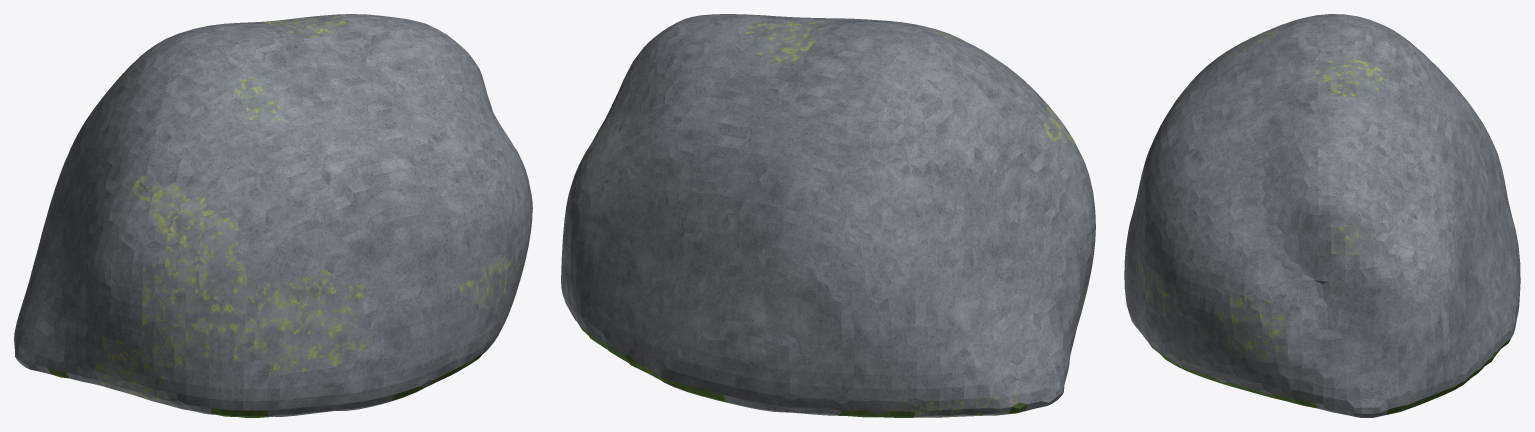
File: rock_large.glb
3 views of the same model, side by side, from view 1: azimuth 30°, elevation 25°; view 2: azimuth 150°, elevation 25°; view 3: azimuth 270°, elevation 25° (orthographic). The views are drawn at different scales.
Parts seen in each view (by area): view 1: wilds_rock_large; view 2: wilds_rock_large; view 3: wilds_rock_large.
Part boxes in pixels (x1,y1,x2,y2): wilds_rock_large: (14, 14, 532, 417); wilds_rock_large: (561, 14, 1095, 417); wilds_rock_large: (1124, 14, 1520, 417).
Bounding box in the file's own units: 2.1 × 1.3 × 1.68.
1 material, 1 textured.
